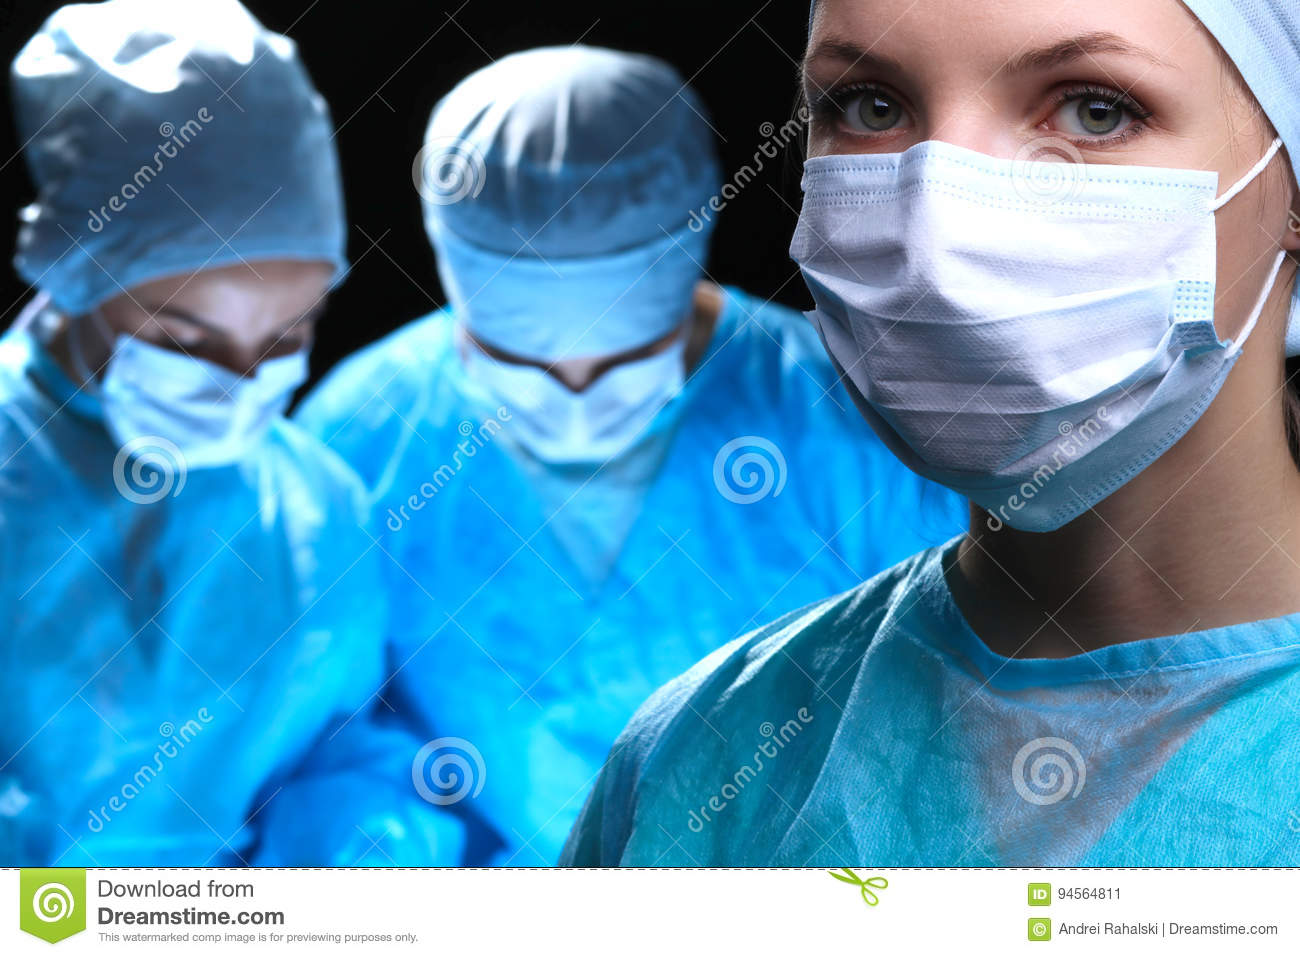mask: (782, 154, 1210, 482)
